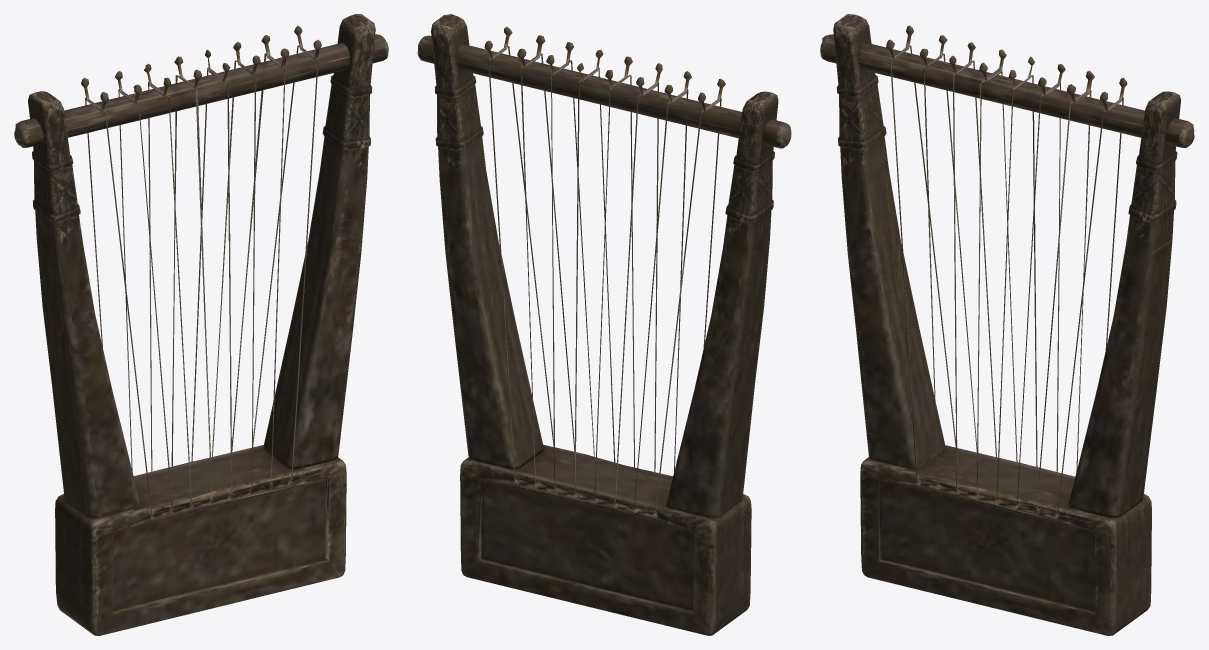
File: lyre.glb
The picture shows the model from 3 angles, left to right: view 1: azimuth 30°, elevation 25°; view 2: azimuth 150°, elevation 25°; view 3: azimuth 330°, elevation 25°; orthographic projection.
Bounding box in the file's own units: 0.6801 × 0.9512 × 0.1289.
1 material, 1 textured.
